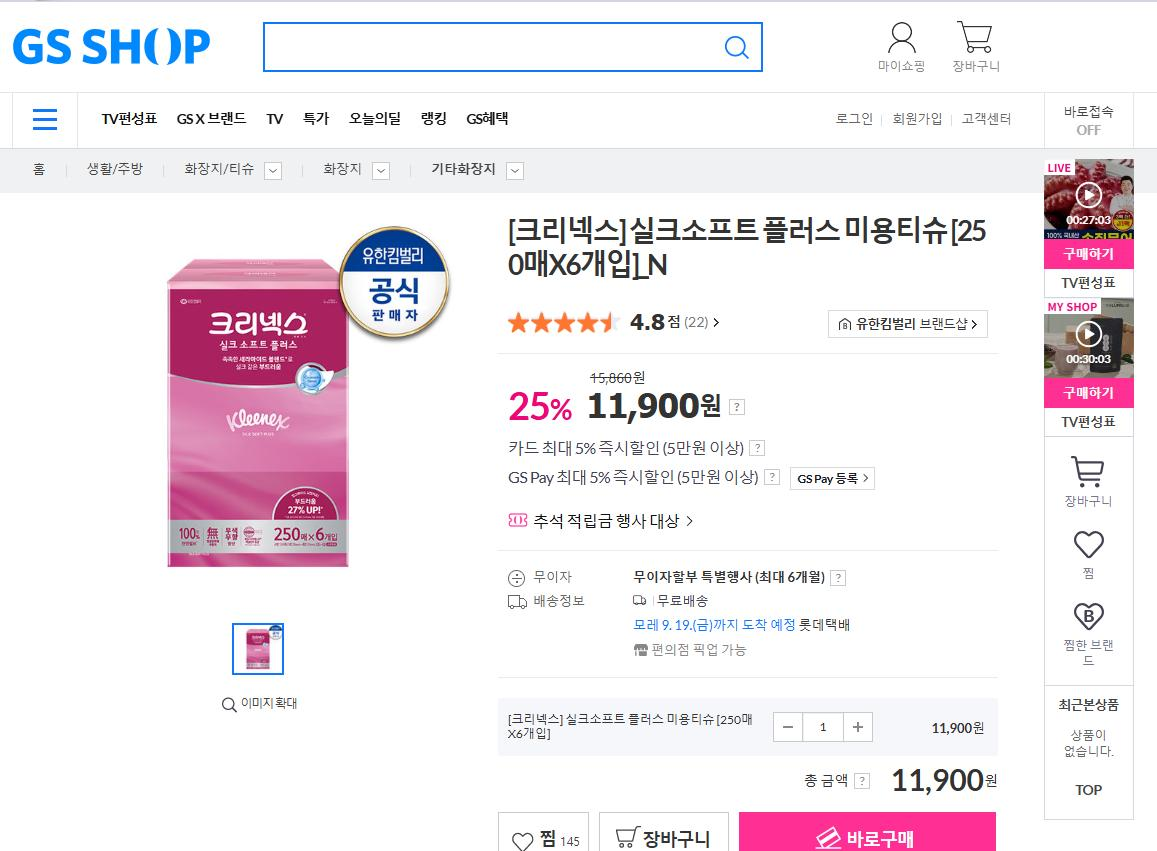button: (741, 811, 997, 851), (504, 499, 708, 538), (828, 305, 991, 342), (1055, 597, 1123, 675), (601, 811, 730, 851), (1057, 447, 1125, 518), (1056, 526, 1125, 591), (873, 15, 937, 84), (949, 14, 1012, 82), (498, 811, 587, 851), (787, 462, 884, 498), (775, 710, 873, 743), (20, 96, 71, 142), (173, 103, 250, 133), (96, 102, 162, 132), (824, 102, 879, 135), (346, 103, 406, 133), (956, 108, 1017, 135), (889, 106, 946, 134), (463, 104, 517, 131), (258, 101, 291, 132), (414, 104, 453, 130), (301, 102, 332, 133)
input_field: (259, 13, 769, 81)
popup: (1044, 159, 1135, 294), (1046, 296, 1136, 431)
